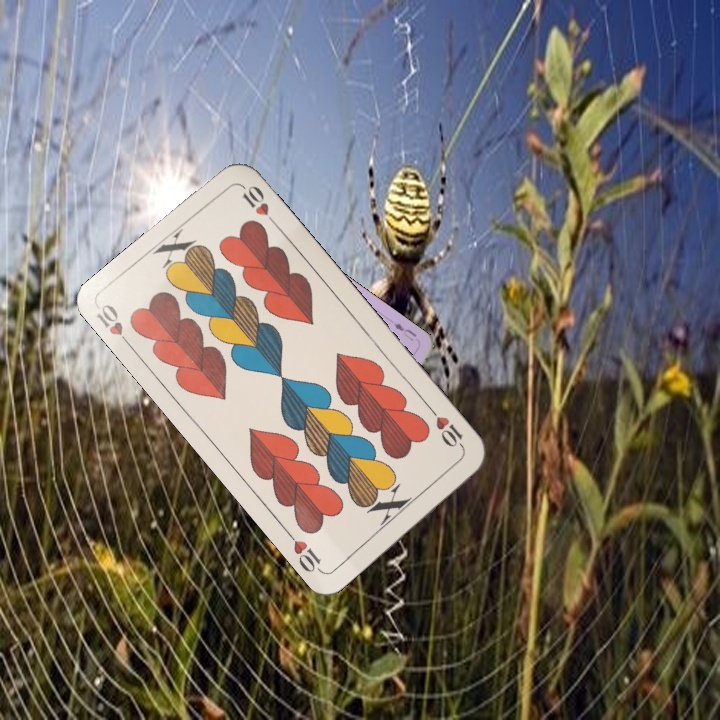EU: (390, 319, 419, 344)
H10: (91, 299, 136, 352), (425, 404, 468, 453)
